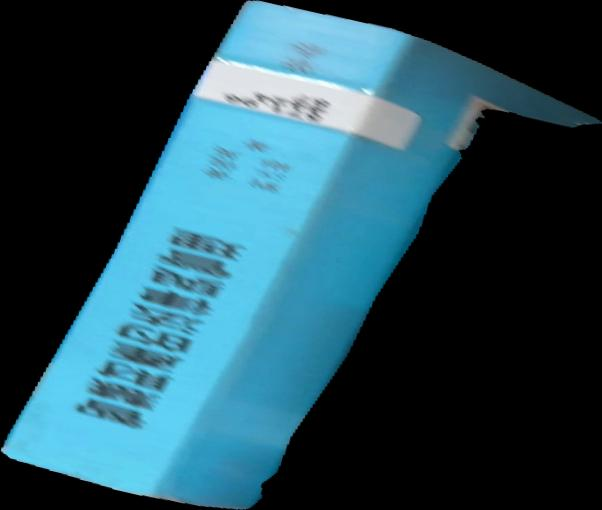reverse: (1, 1, 602, 510)
